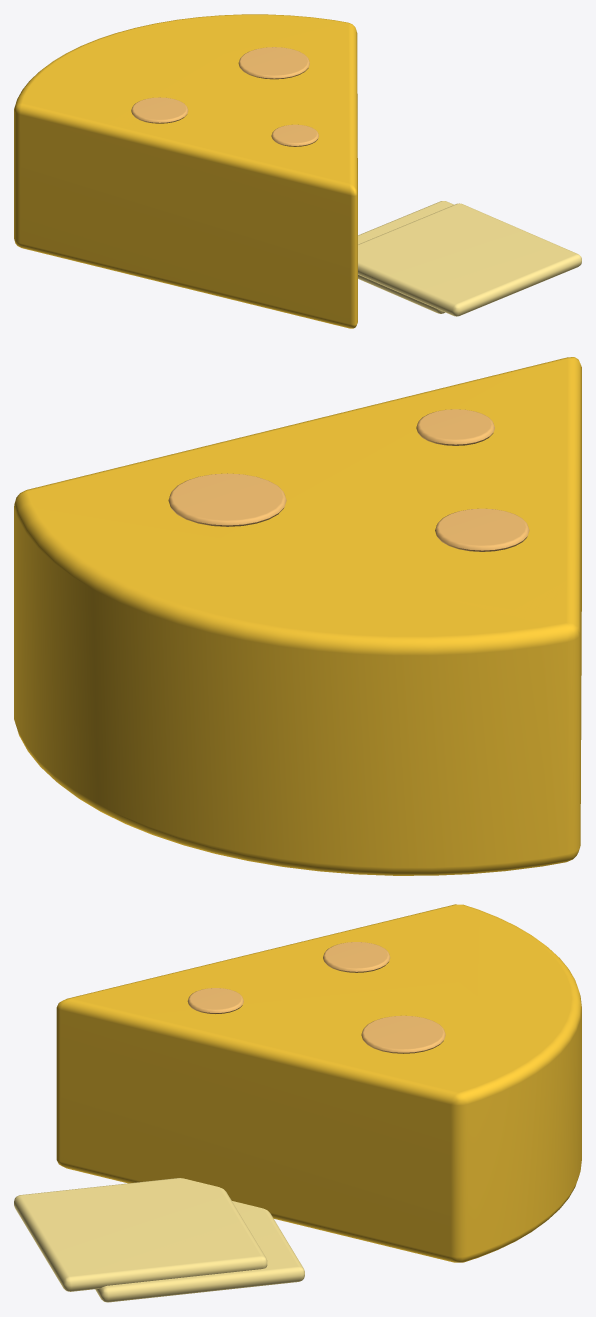
The model's file is cheese.glb.
3 views of the same model, one above another, from view 1: azimuth 30°, elevation 25°; view 2: azimuth 150°, elevation 25°; view 3: azimuth 270°, elevation 25° (orthographic). The views are drawn at different scales.
Visible parts, largest first — view 1: cheese_mesh; view 2: cheese_mesh; view 3: cheese_mesh.
Boxes of the visible parts, left/top/right/bottom form: cheese_mesh: left=14, top=14, right=581, bottom=328; cheese_mesh: left=14, top=357, right=581, bottom=875; cheese_mesh: left=14, top=904, right=581, bottom=1302.
Bounding box in the file's own units: 0.2907 × 0.1041 × 0.3025.
